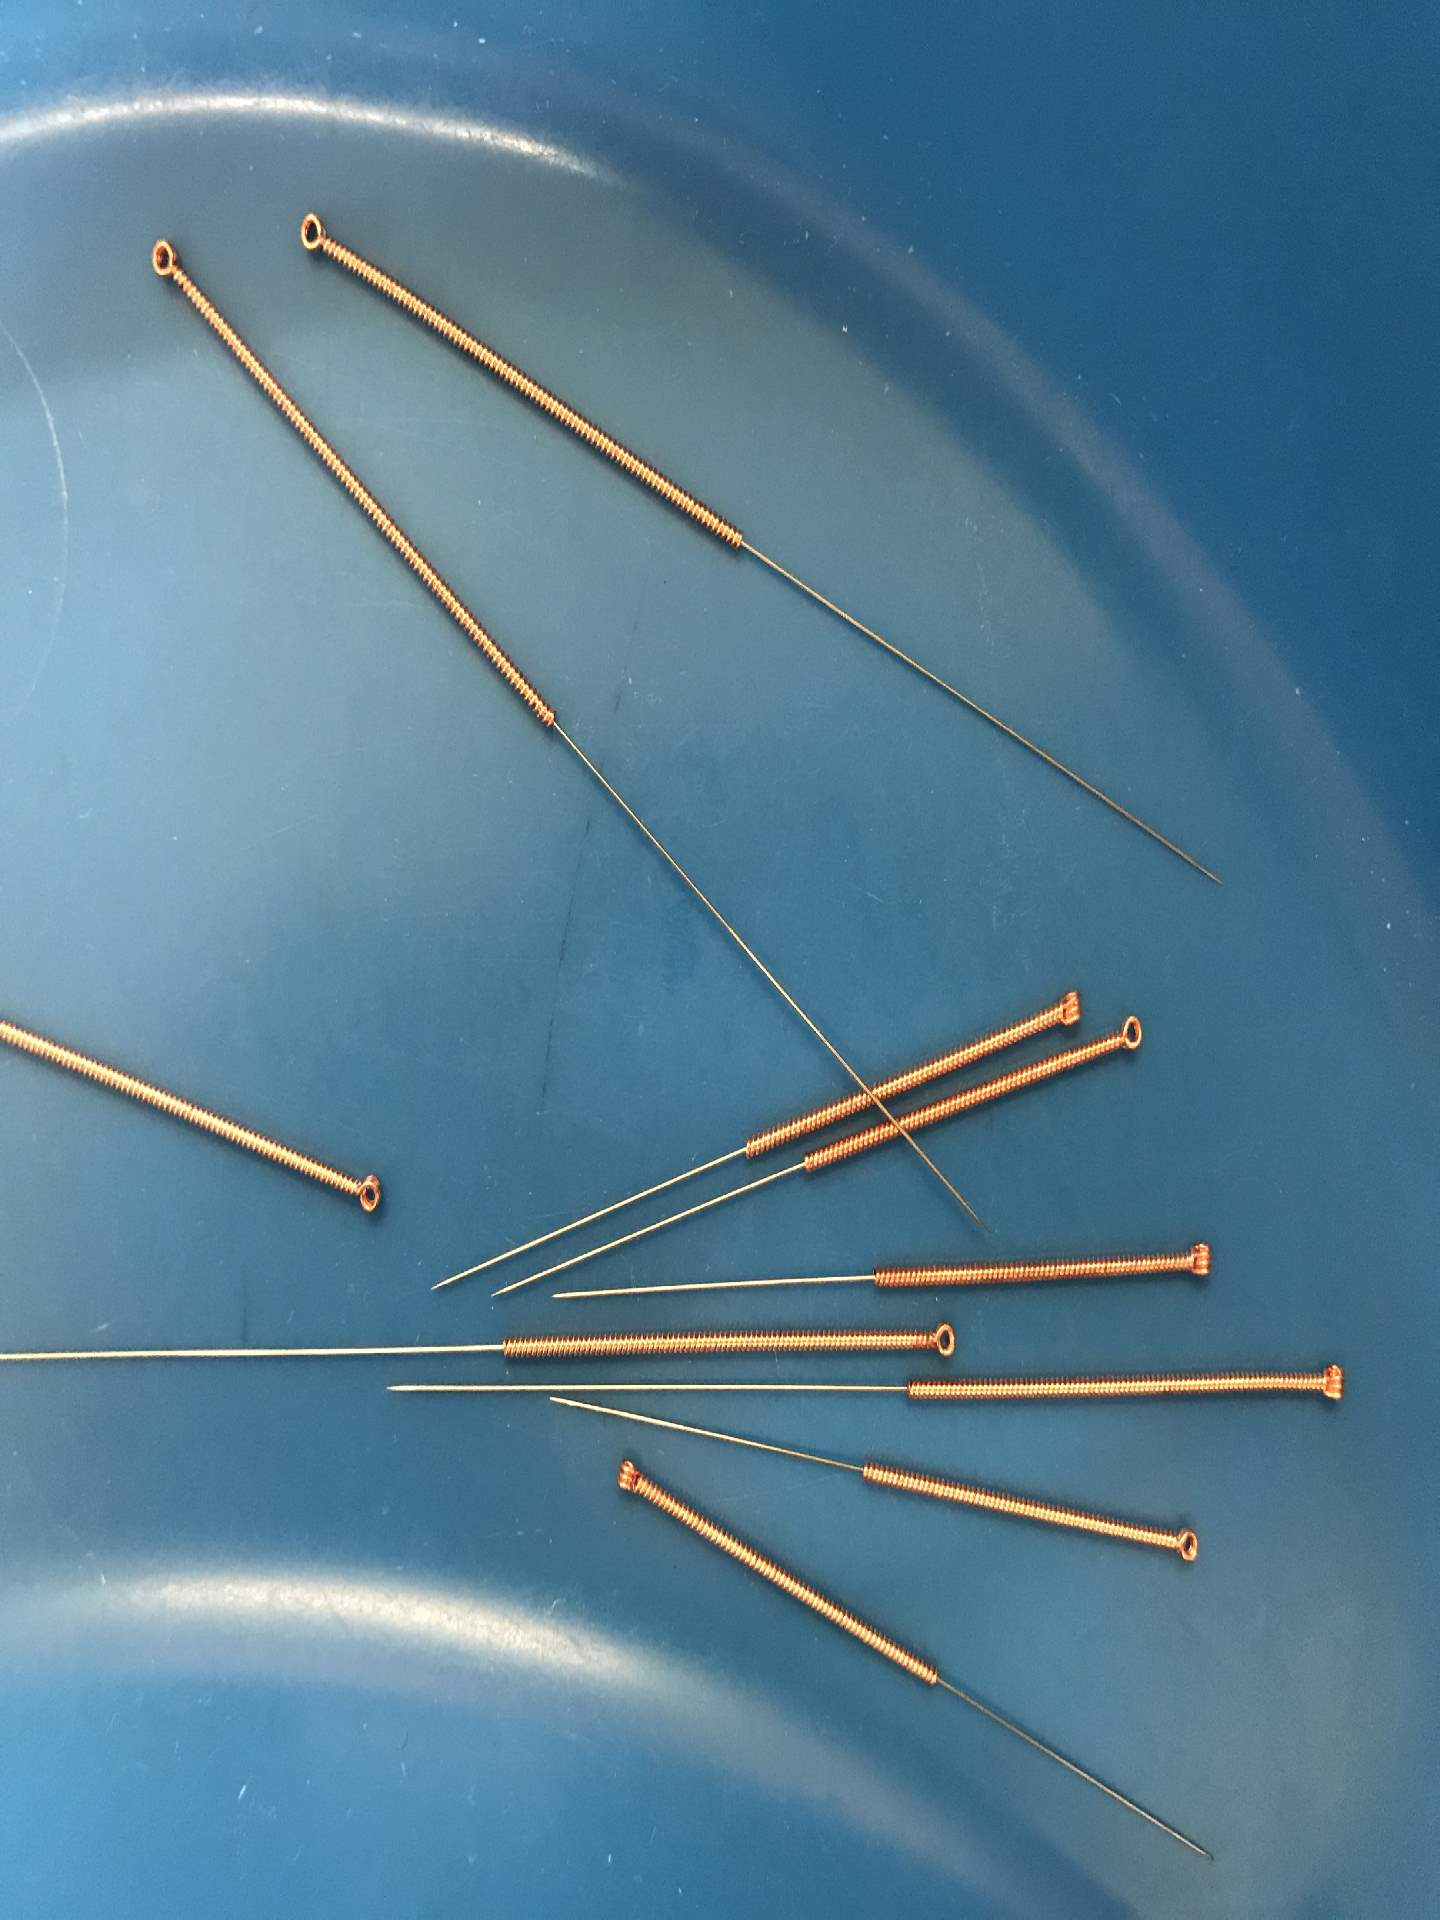needle: (330, 1160, 395, 1228), (278, 201, 343, 265), (135, 225, 192, 293), (1163, 1231, 1227, 1291), (601, 1447, 661, 1510), (1153, 1513, 1209, 1577), (909, 1314, 970, 1367), (1301, 1355, 1357, 1411), (1101, 1005, 1154, 1063), (1038, 980, 1091, 1036)
